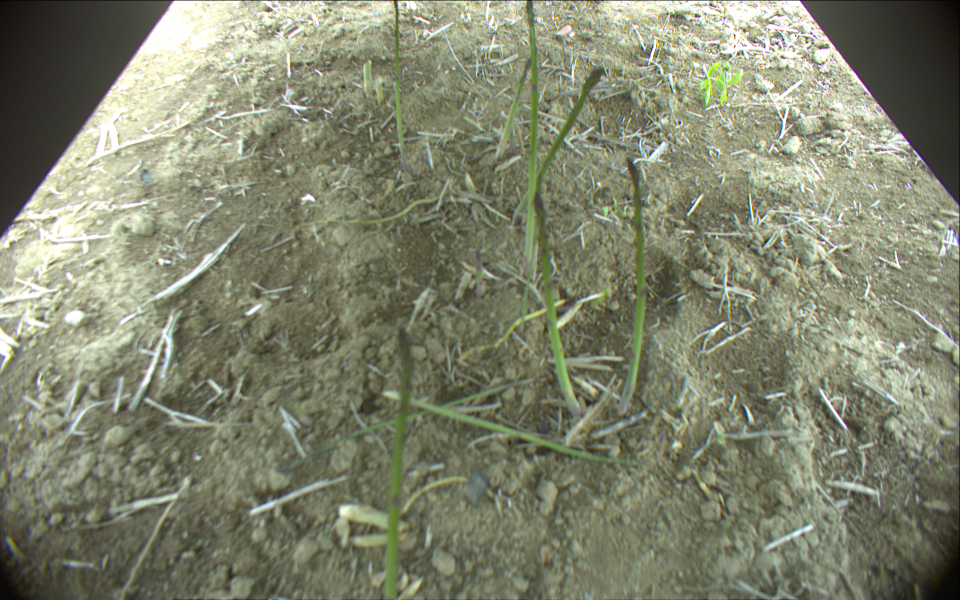aspa: (384, 387, 636, 466), (533, 198, 581, 423), (534, 66, 604, 203), (382, 323, 415, 600), (618, 155, 647, 415), (522, 1, 538, 277), (496, 55, 529, 159), (390, 1, 408, 171), (363, 56, 373, 95)
